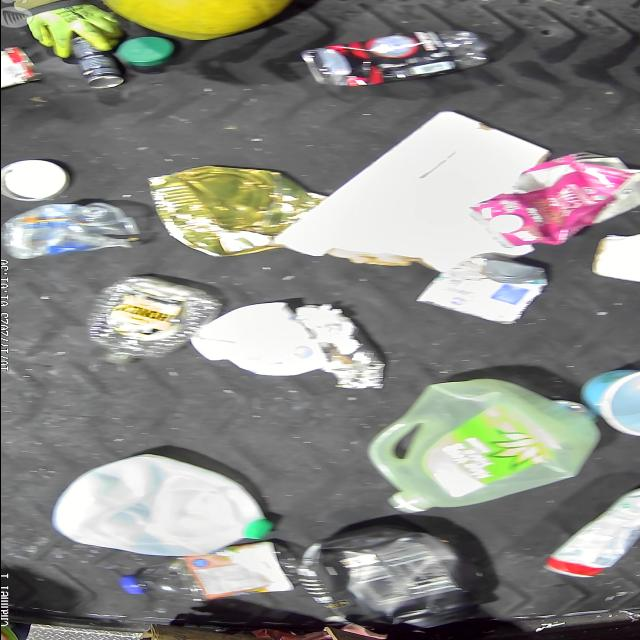can: (145, 165, 326, 257), (416, 258, 548, 324), (70, 36, 124, 88), (0, 48, 40, 93)
milk_jug: (370, 379, 596, 514), (50, 451, 272, 555)
non_white_jug: (467, 150, 640, 248)
plastic_bottle: (298, 524, 484, 628), (87, 275, 216, 365), (120, 538, 292, 600)
